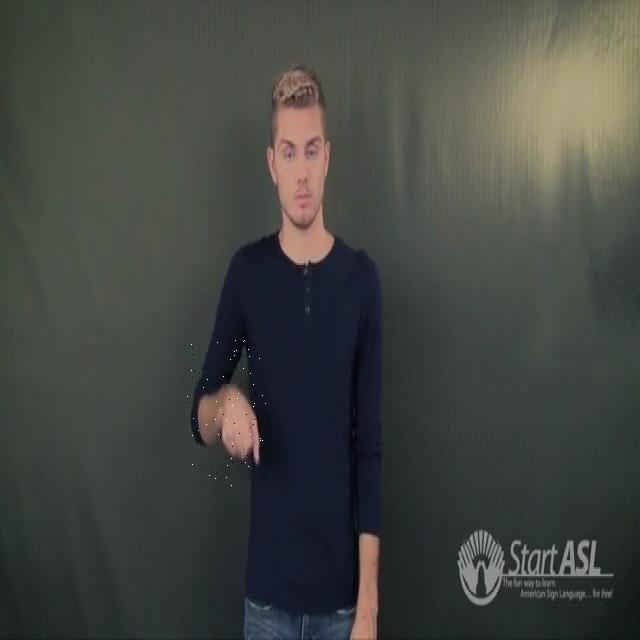bag: (187, 340, 266, 486)
